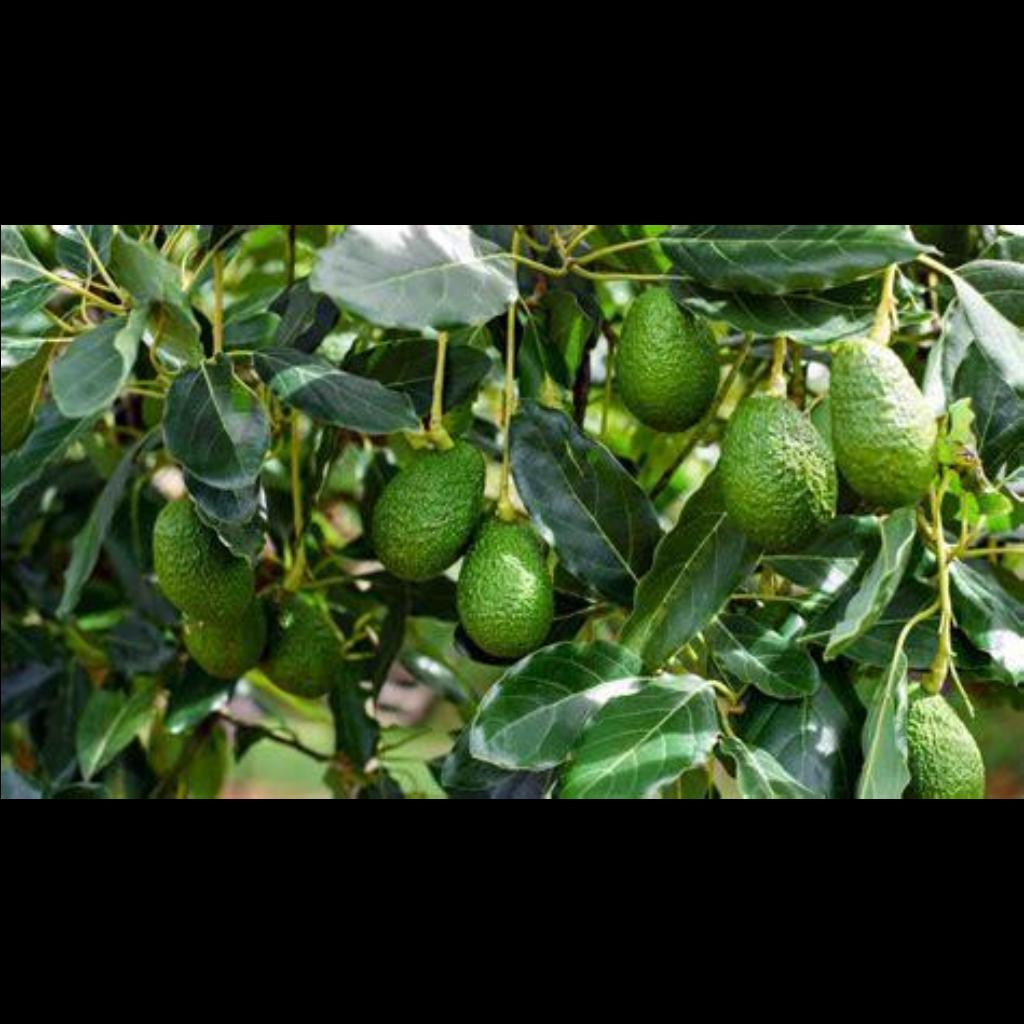fruto_sano: (362, 410, 559, 656), (717, 363, 940, 547), (601, 277, 722, 437), (143, 497, 251, 620), (900, 687, 991, 793)
